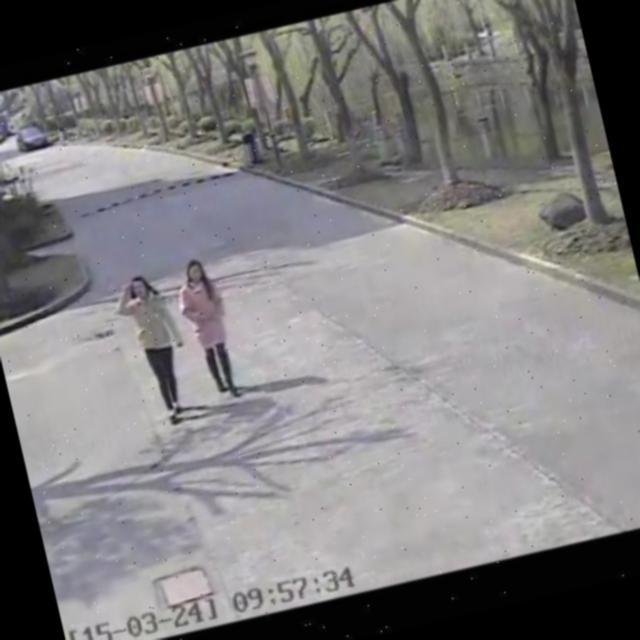person: (104, 262, 202, 435), (166, 247, 254, 411)
